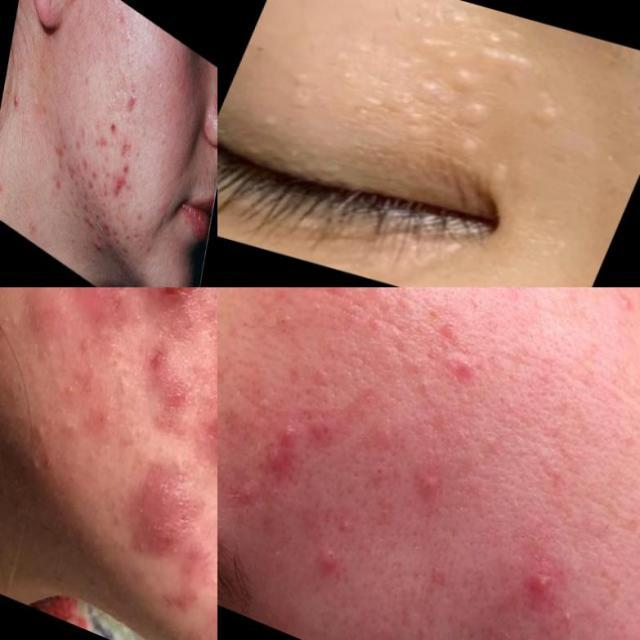Pimples: (389, 0, 558, 81), (350, 47, 466, 134), (122, 470, 200, 566), (500, 546, 568, 626), (241, 414, 305, 492), (394, 457, 447, 525), (298, 528, 346, 593), (521, 85, 573, 135), (217, 470, 264, 520), (450, 90, 500, 136), (354, 450, 396, 498), (440, 60, 493, 98), (294, 420, 339, 463), (596, 287, 640, 330), (410, 366, 448, 413), (157, 287, 210, 320), (200, 395, 218, 475), (552, 597, 582, 640), (118, 74, 144, 120), (109, 168, 128, 205), (116, 130, 130, 164), (76, 148, 92, 176), (82, 176, 95, 202), (118, 236, 130, 262), (9, 90, 21, 116)
